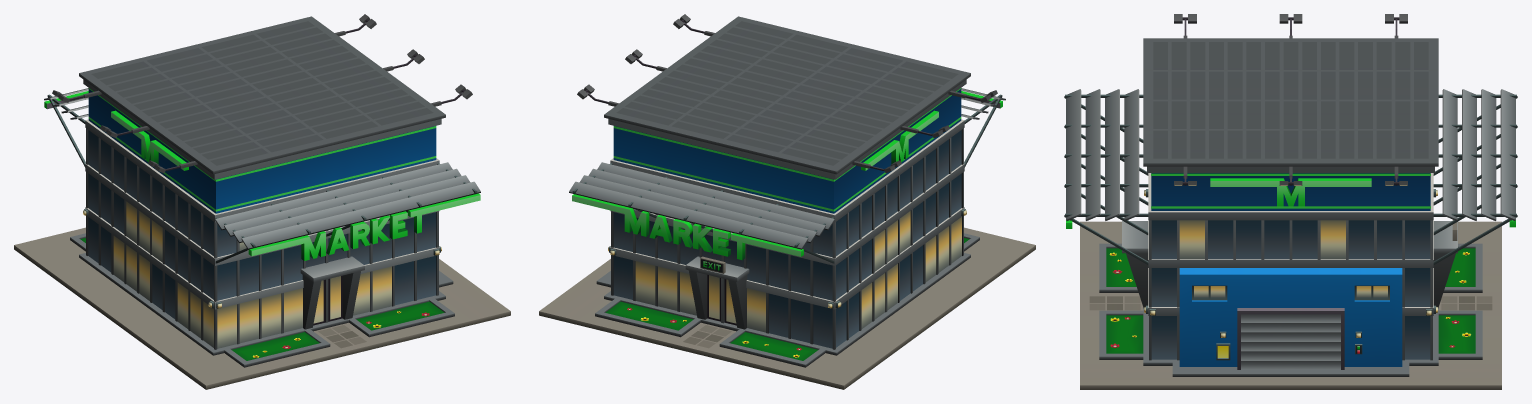
File: Building_17D.fbx
3 renders of one model, left to right at view 1: azimuth 30°, elevation 25°; view 2: azimuth 150°, elevation 25°; view 3: azimuth 270°, elevation 25°, orthographic. The views are drawn at different scales.
Visible parts, largest first — view 1: Building_17D, Window_Lights_17D, Logo_17D; view 2: Building_17D, Window_Lights_17D, Logo_17D; view 3: Building_17D, Window_Lights_17D, Logo_17D.
Part boxes in pixels (x1=…): Building_17D: x1=14, y1=14, x2=510, y2=389; Window_Lights_17D: x1=113, y1=201, x2=391, y2=348; Logo_17D: x1=44, y1=91, x2=480, y2=260; Building_17D: x1=539, y1=14, x2=1035, y2=389; Window_Lights_17D: x1=635, y1=211, x2=961, y2=332; Logo_17D: x1=572, y1=91, x2=1002, y2=260; Building_17D: x1=1064, y1=14, x2=1517, y2=389; Window_Lights_17D: x1=1179, y1=220, x2=1387, y2=297; Logo_17D: x1=1066, y1=178, x2=1515, y2=228.
Size of the model in its own units: 22.71 by 13.21 by 25.78.
